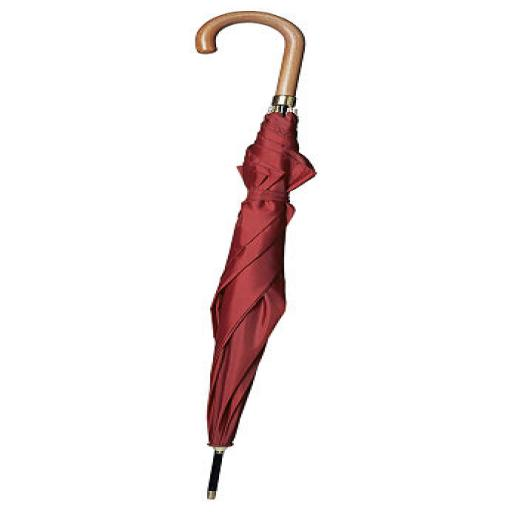guarda_chuva: (194, 9, 317, 499)
